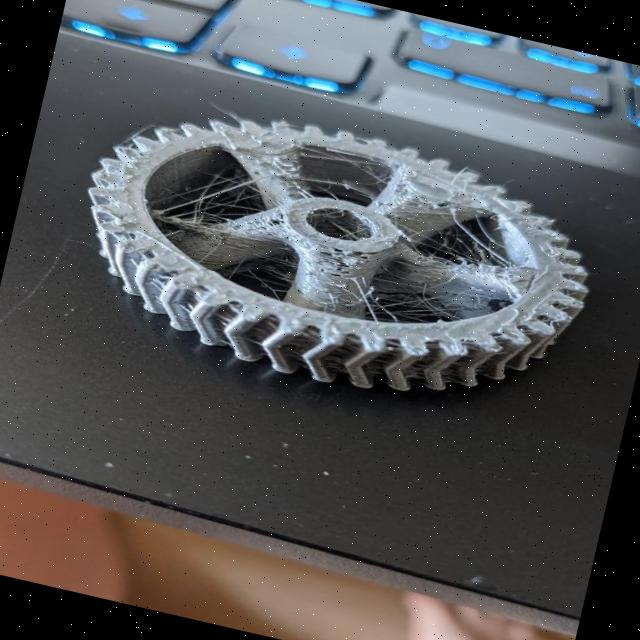stringing: (112, 124, 599, 354)
